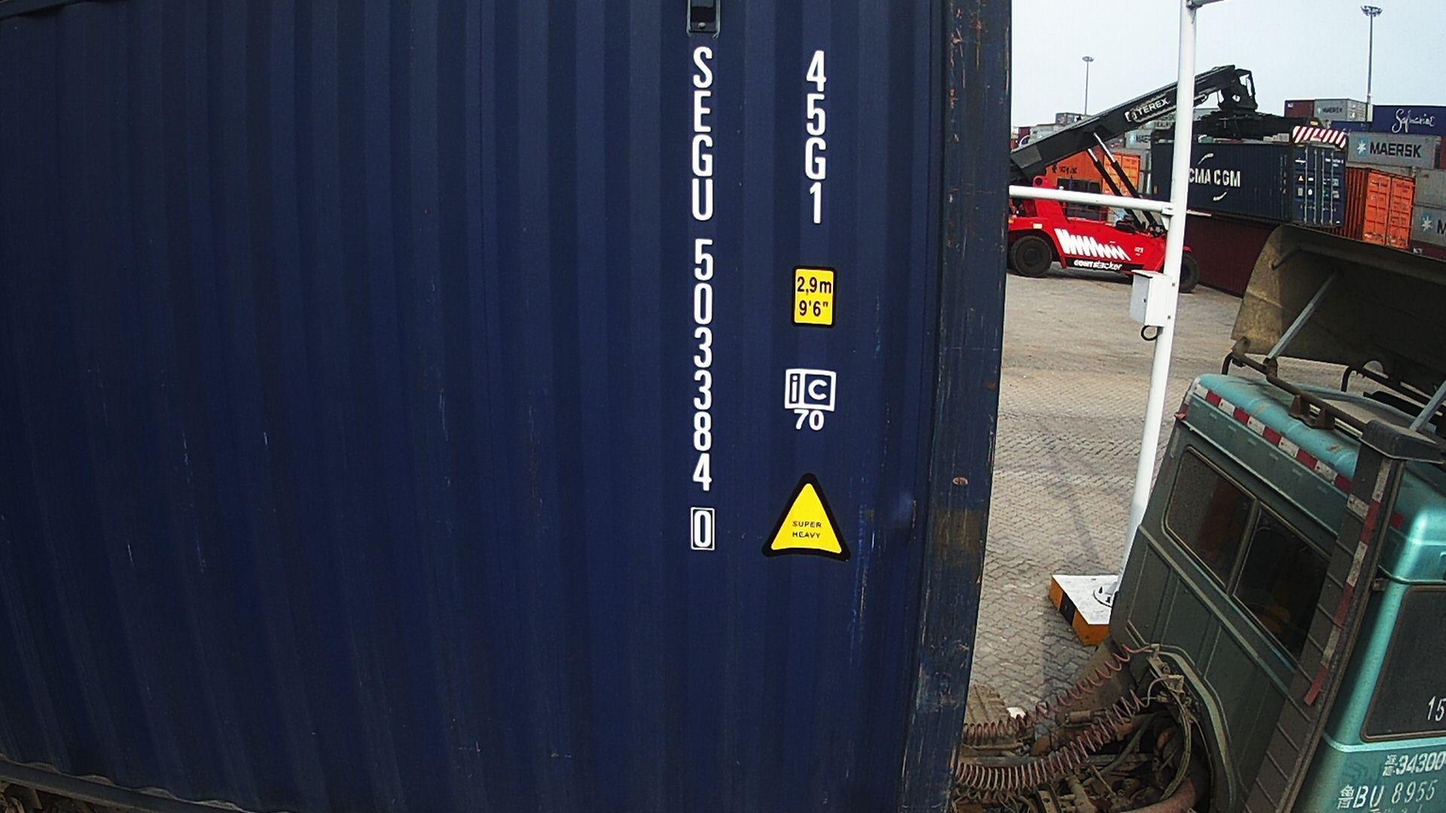container-numbers: (679, 37, 721, 561), (798, 45, 834, 233)
